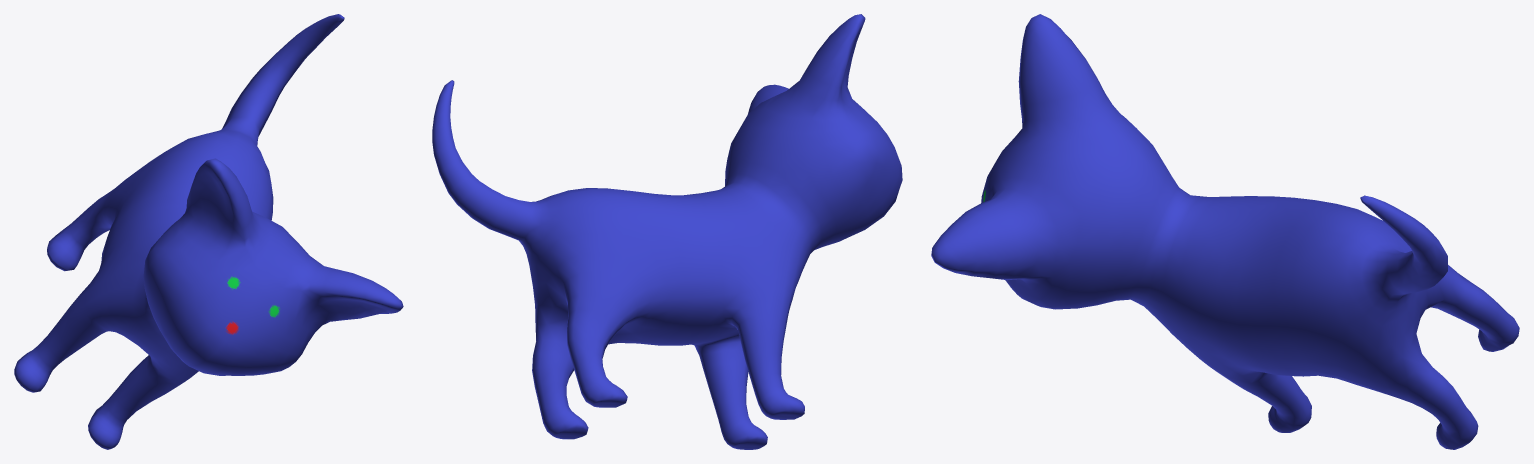
The model's file is cat.glb.
3 renders of one model, left to right at view 1: azimuth 30°, elevation 25°; view 2: azimuth 150°, elevation 25°; view 3: azimuth 270°, elevation 25°, orthographic. The views are drawn at different scales.
Visible parts, largest first — view 1: mesh_id28; view 2: mesh_id28; view 3: mesh_id28.
Part boxes in pixels (x1,y1,x2,y2): mesh_id28: (14, 14, 403, 449); mesh_id28: (432, 14, 902, 449); mesh_id28: (931, 14, 1519, 449).
Size of the model in its own units: 0.1725 by 0.1748 by 0.2252.
Materials: 1 (1 with a texture image).
